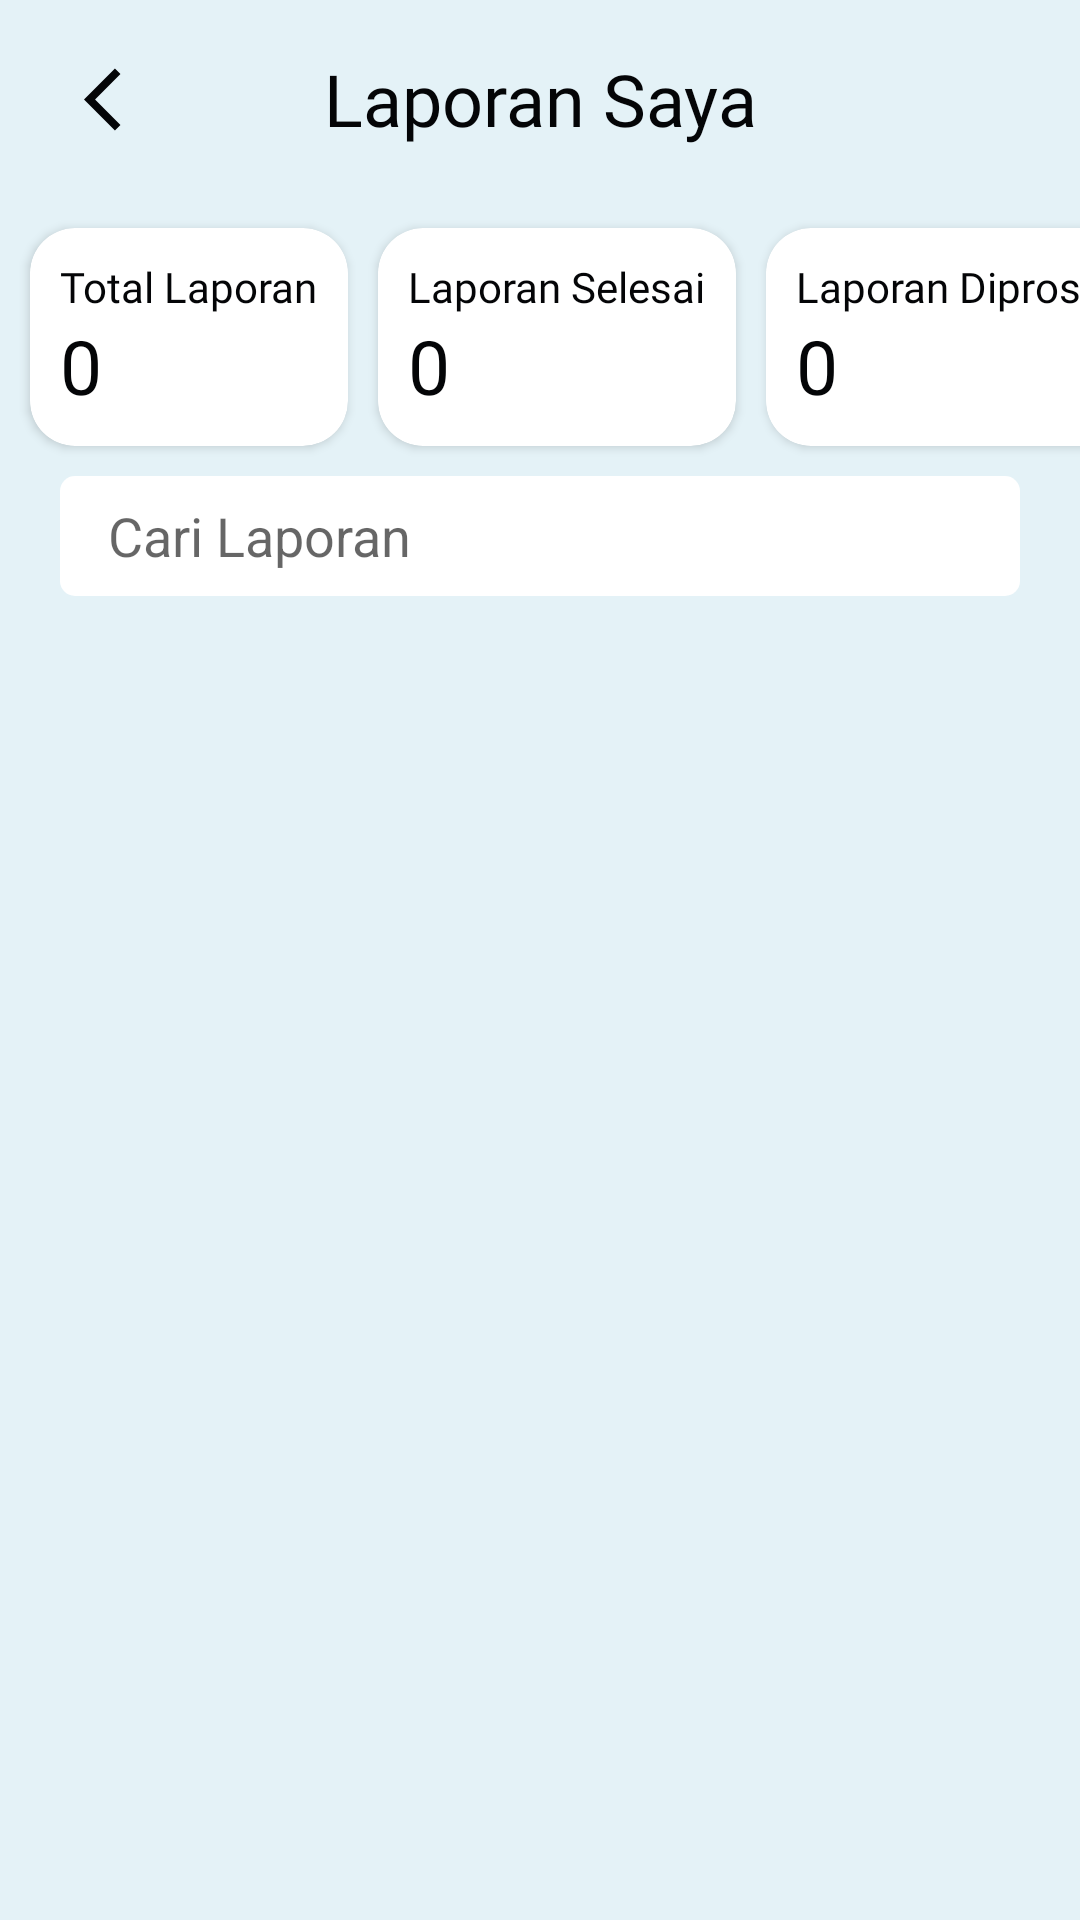

Locate icon controls on the screen. Image size 1080*1920, boxes as (x1, y1, x2, y2).
back: (84, 68, 121, 131)
